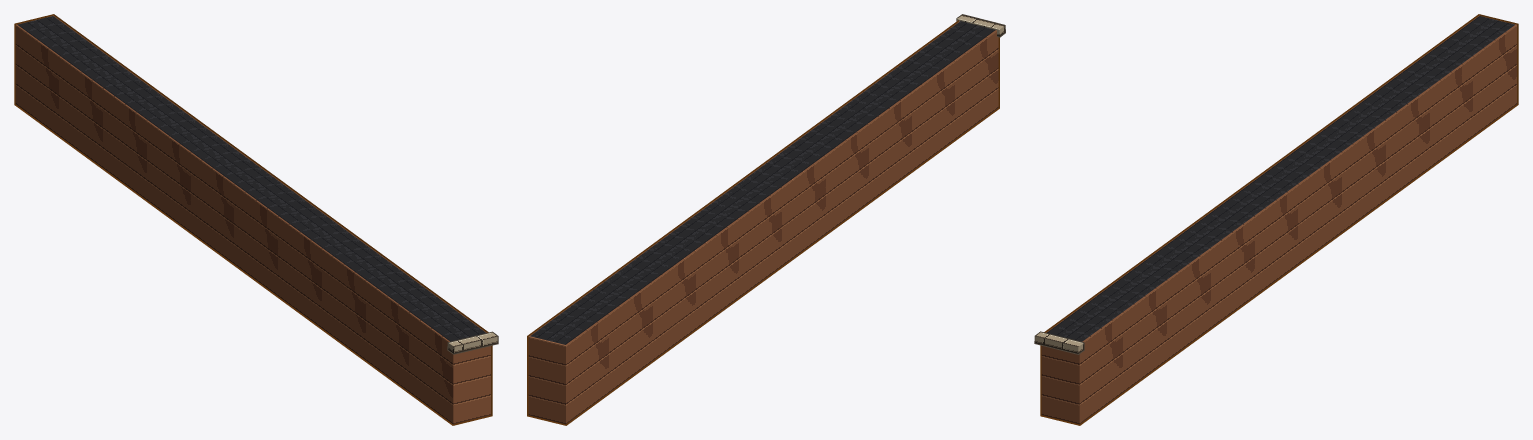
Rendered from Block_8.glb.
The picture shows the model from 3 angles, left to right: view 1: azimuth 30°, elevation 25°; view 2: azimuth 150°, elevation 25°; view 3: azimuth 330°, elevation 25°; orthographic projection.
Visible parts, largest first — view 1: Block_8; view 2: Block_8; view 3: Block_8.
Boxes of the visible parts, box(x1,y1,x2,y2) form: Block_8: box(14, 14, 498, 425); Block_8: box(527, 14, 1005, 425); Block_8: box(1034, 14, 1518, 425).
Size of the model in its own units: 2.37 by 4.16 by 40.45.
Materials: 5 (3 with a texture image).
